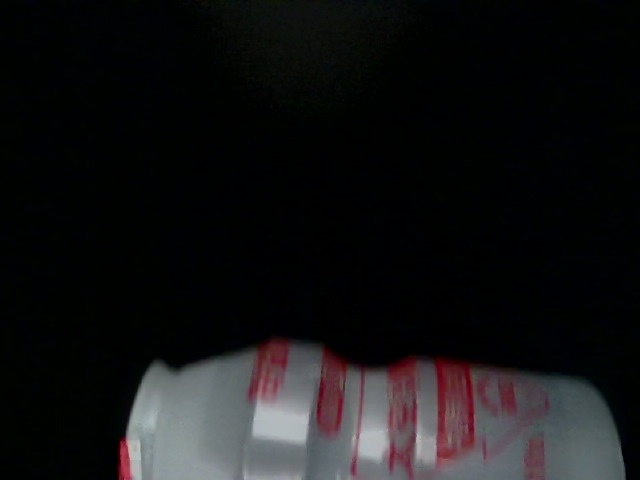CYLJ: (340, 64, 440, 161)
